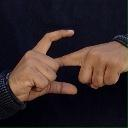E: (10, 28, 124, 104)
